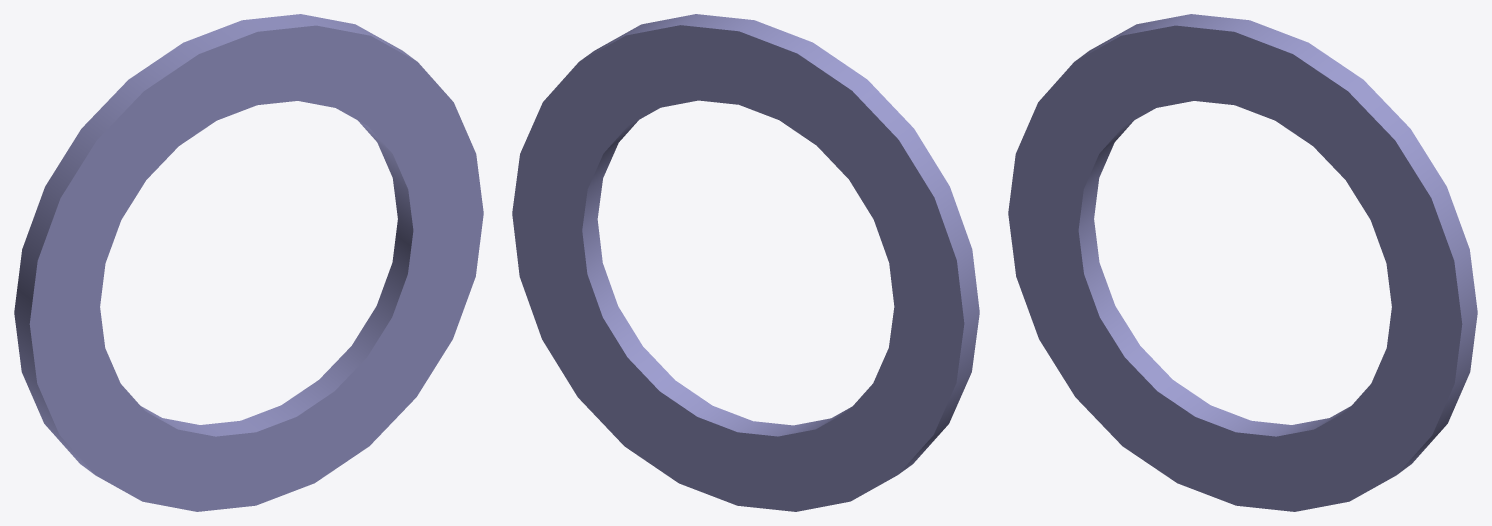
The model's file is EDCGDCBPipe1Flange.gltf.
The picture shows the model from 3 angles, left to right: view 1: azimuth 30°, elevation 25°; view 2: azimuth 150°, elevation 25°; view 3: azimuth 330°, elevation 25°; orthographic projection.
Visible parts, largest first — view 1: logicEDCGDCBPipe1Flange_pv0x223d130; view 2: logicEDCGDCBPipe1Flange_pv0x223d130; view 3: logicEDCGDCBPipe1Flange_pv0x223d130.
Part boxes in pixels (box(x1,y1,x2,y2)): logicEDCGDCBPipe1Flange_pv0x223d130: box(14, 14, 483, 511); logicEDCGDCBPipe1Flange_pv0x223d130: box(512, 14, 979, 511); logicEDCGDCBPipe1Flange_pv0x223d130: box(1008, 14, 1477, 511).
Size of the model in its own units: 48.1 by 48.12 by 3.16.
